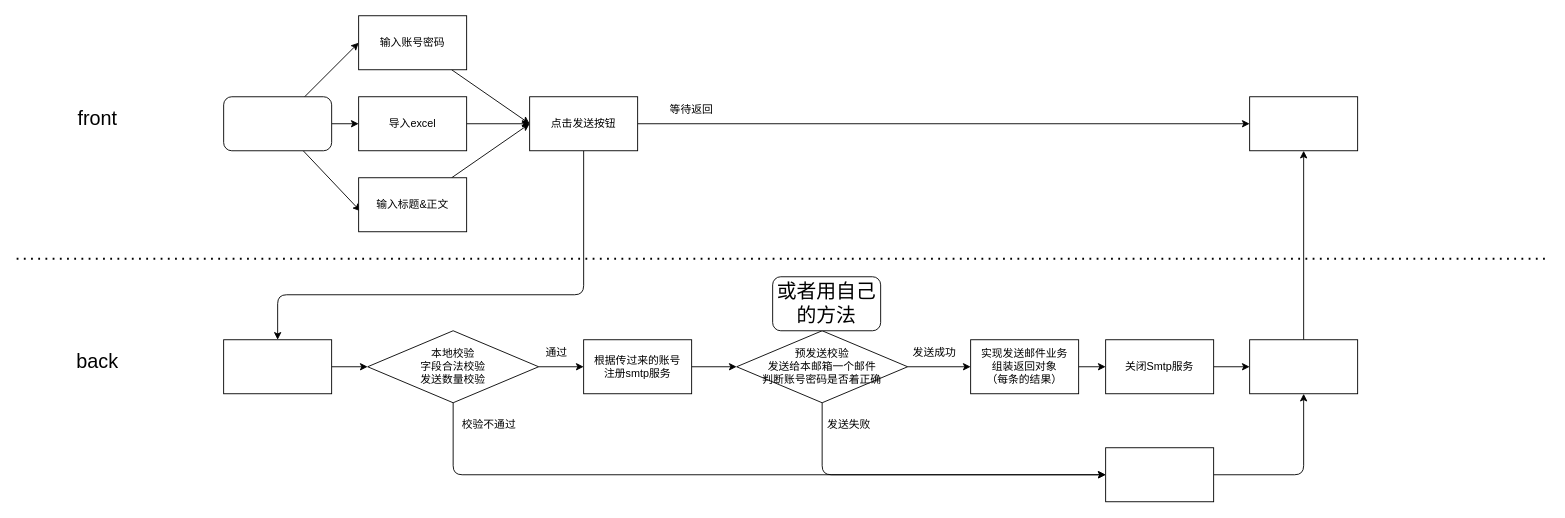
Image size: 1565x518. Some labels were removed from this diagram. The centre of each missing label's shape, as x and y in pixels:
"前端接收返回值 处理返回值" belongs at point (1303, 123).
"后台收到发送请求" belongs at point (277, 366).
"开始" belongs at point (277, 123).
"根据错误类型 组装错误返回对象" belongs at point (1159, 474).
"返回值" belongs at point (1303, 366).
